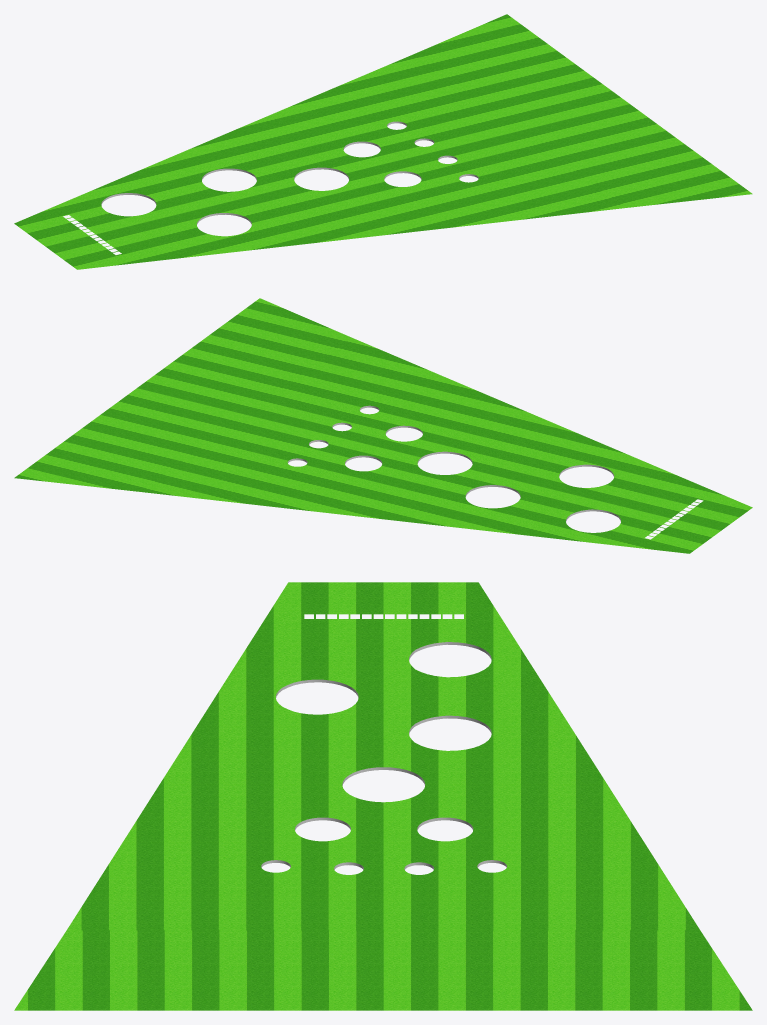
File: Grass.glb
3 views of the same model, one above another, from view 1: azimuth 30°, elevation 25°; view 2: azimuth 150°, elevation 25°; view 3: azimuth 270°, elevation 25° (orthographic). The views are drawn at different scales.
Parts seen in each view (by area): view 1: Grass; view 2: Grass; view 3: Grass.
Part boxes in pixels (x1,y1,x2,y2): Grass: (14, 14, 752, 269); Grass: (14, 298, 752, 553); Grass: (14, 582, 752, 1010).
Size of what is drawn, in the model's own units: 480 by 1.46 by 350.
Materials: 2 (1 with a texture image).
